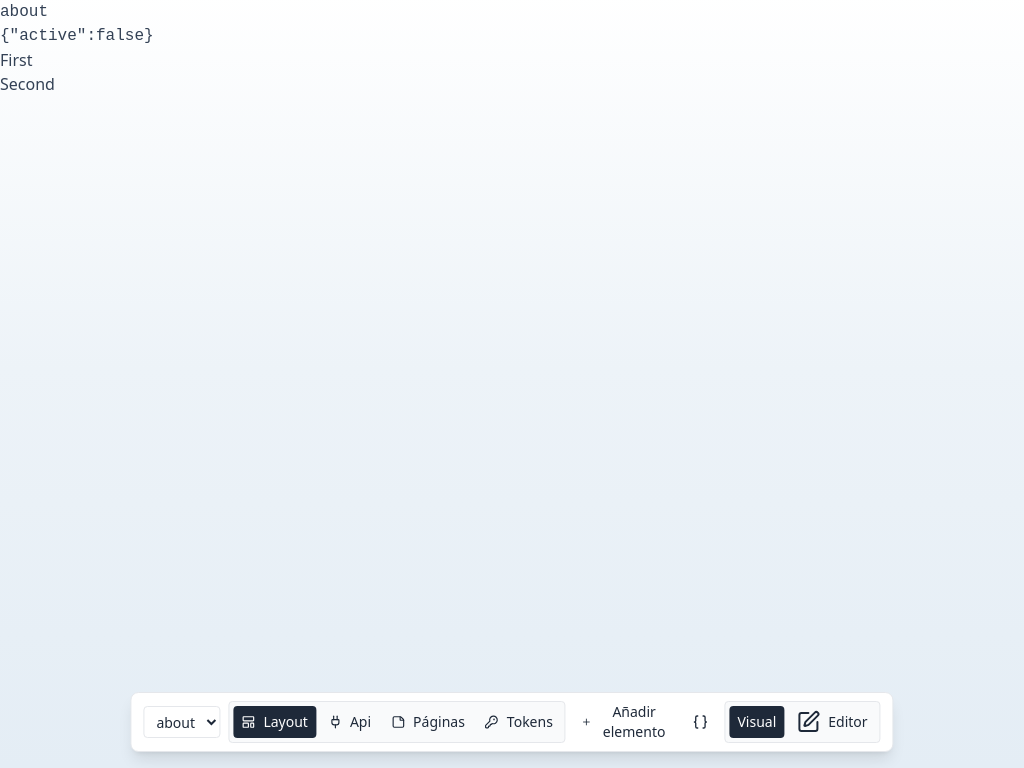
Test: DevEditorLayer / FloatingNodePalette visibility › shows the palette when paletteOpen is true even in visual mode
This screenshot has width=1024, height=768.
What coordinates should you click on to do the following:
click the button with test id "dev-editor-toolbar-palette-toggle"
I would click on:
 (625, 722)
Its box is [574,706,676,738].
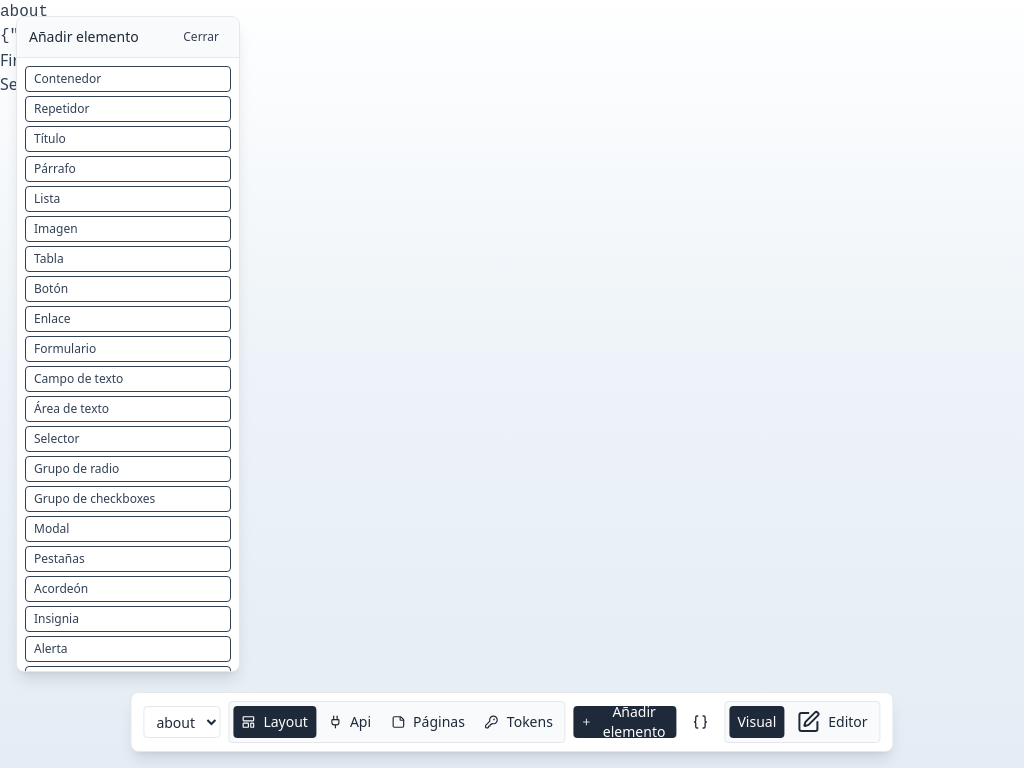
expect the dialog with test id "dev-editor-floating-palette" is shown: met, box [16,16,240,672]
